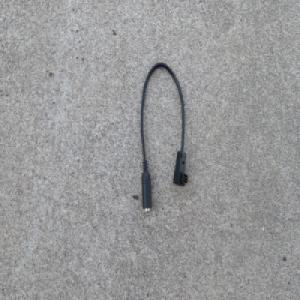Wire: (137, 60, 188, 213)
